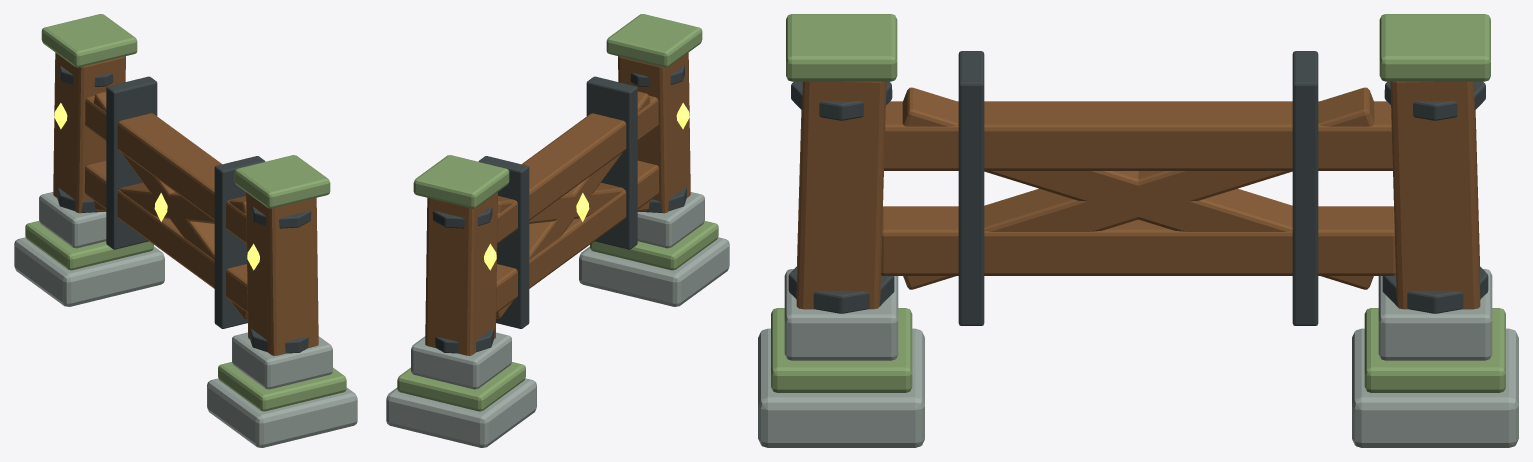
File: SM_EmbermereBoundaryFence_01.fbx
3 renders of one model, left to right at view 1: azimuth 30°, elevation 25°; view 2: azimuth 150°, elevation 25°; view 3: azimuth 270°, elevation 25°, orthographic. The views are drawn at different scales.
Parts seen in each view (by area): view 1: SM_EmbermereBoundaryFence_01; view 2: SM_EmbermereBoundaryFence_01; view 3: SM_EmbermereBoundaryFence_01.
Part boxes in pixels (x1,y1,x2,y2): SM_EmbermereBoundaryFence_01: [14, 14, 357, 447]; SM_EmbermereBoundaryFence_01: [386, 14, 729, 447]; SM_EmbermereBoundaryFence_01: [758, 14, 1518, 447].
Size of what is drawn, in the model's own units: 78 by 328 by 180.
